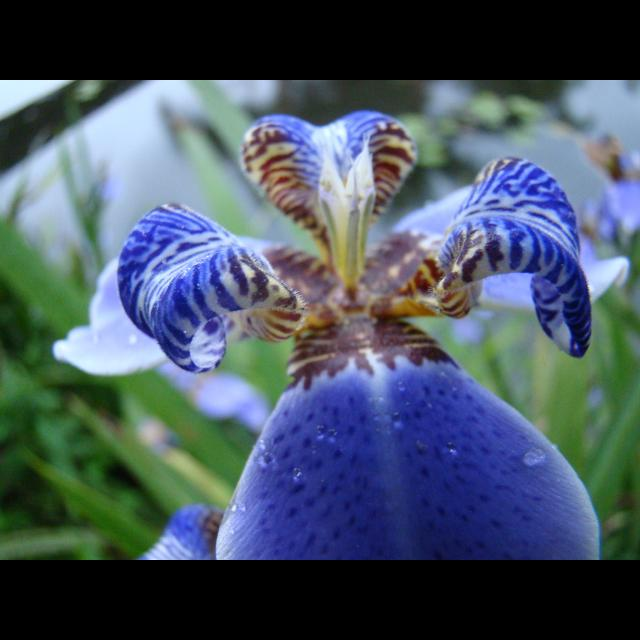Flower: (125, 97, 600, 551)
